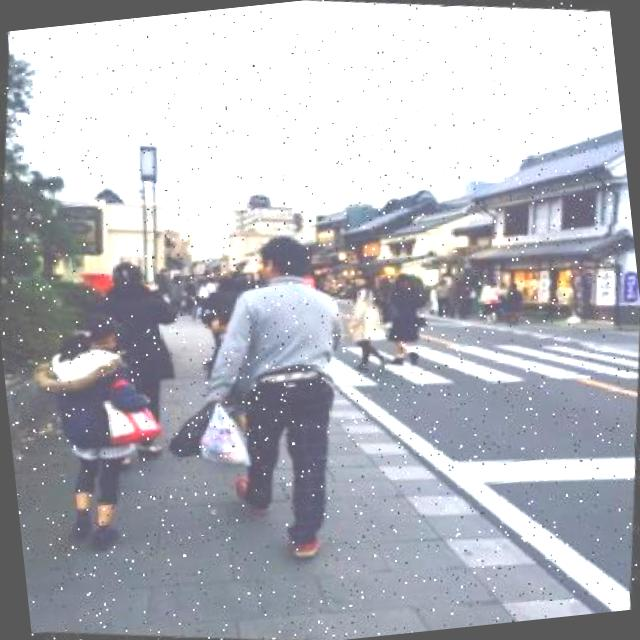Person: (170, 222, 379, 570), (14, 300, 171, 560), (339, 269, 406, 374)
